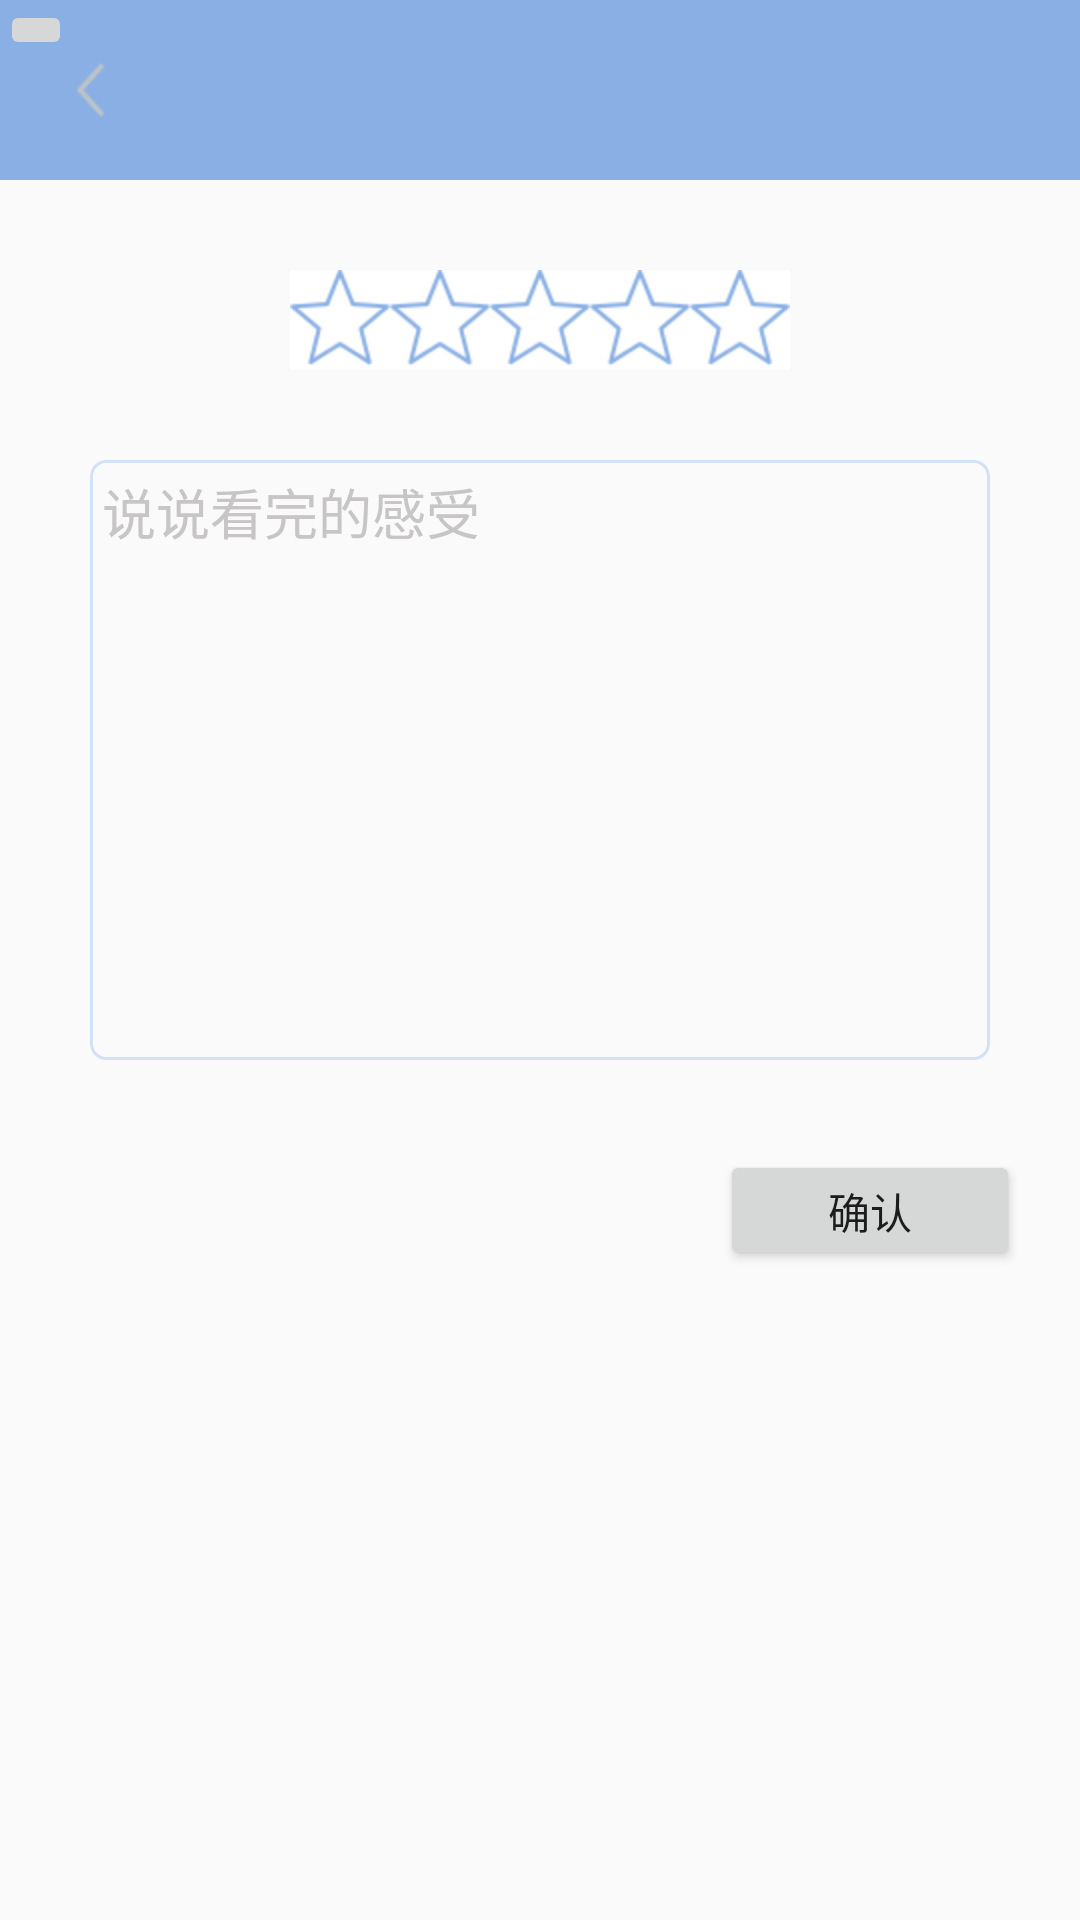

Locate icon controls on the screen. Image size 1080w x 1920h, boxes as (x1, y1, x2, y2).
return: (78, 64, 104, 116)
star: (290, 270, 390, 365), (390, 270, 490, 365), (490, 270, 590, 365), (590, 270, 690, 365), (690, 270, 790, 365)
